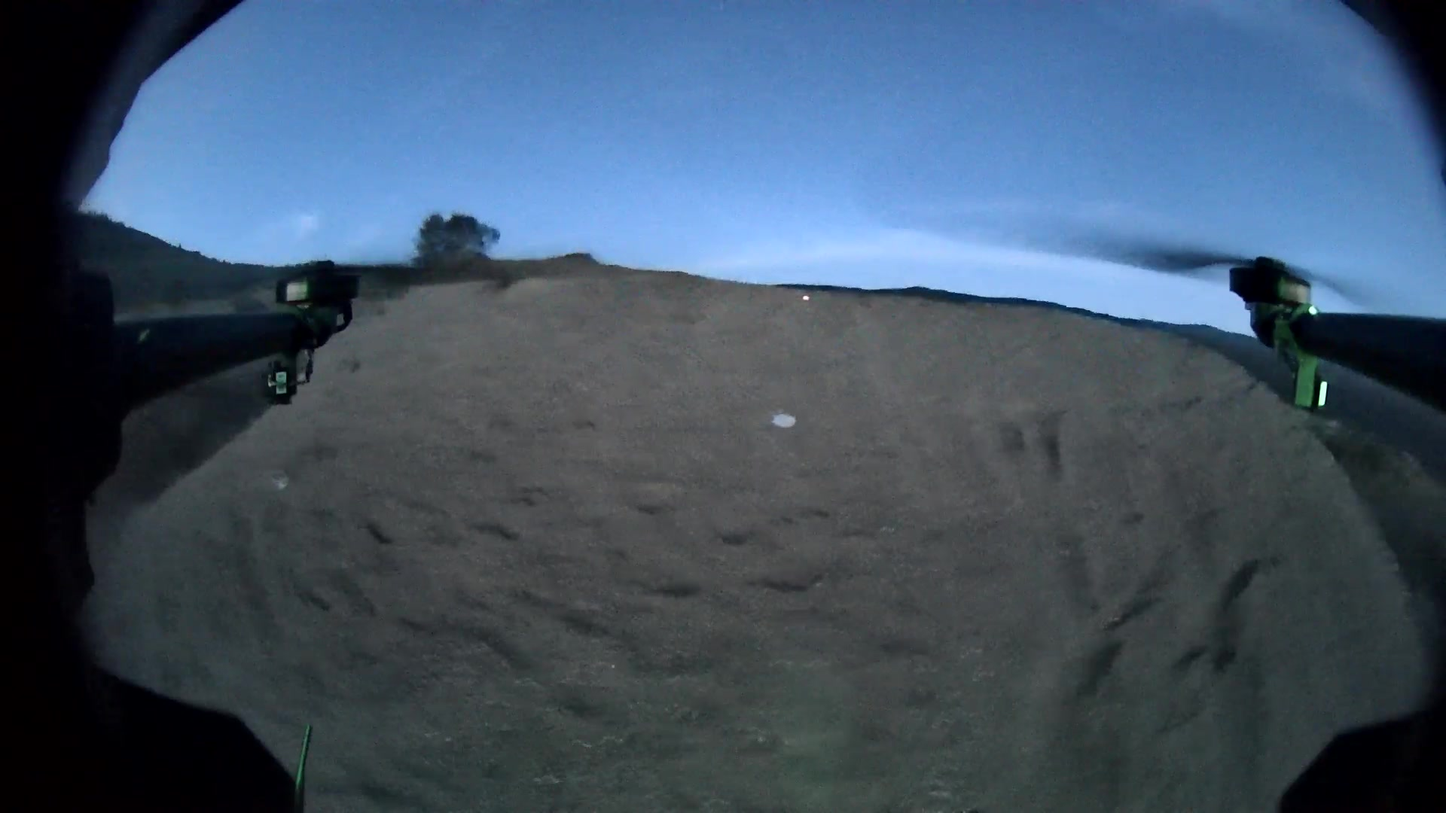Target: (772, 414, 796, 428)
